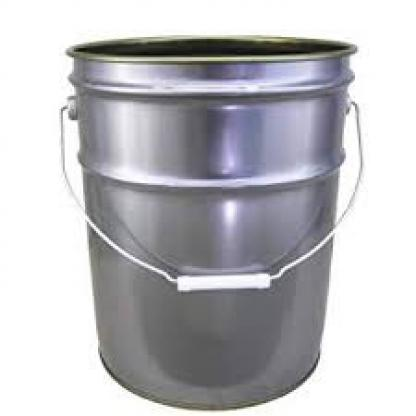Compsot: (57, 35, 359, 409)
